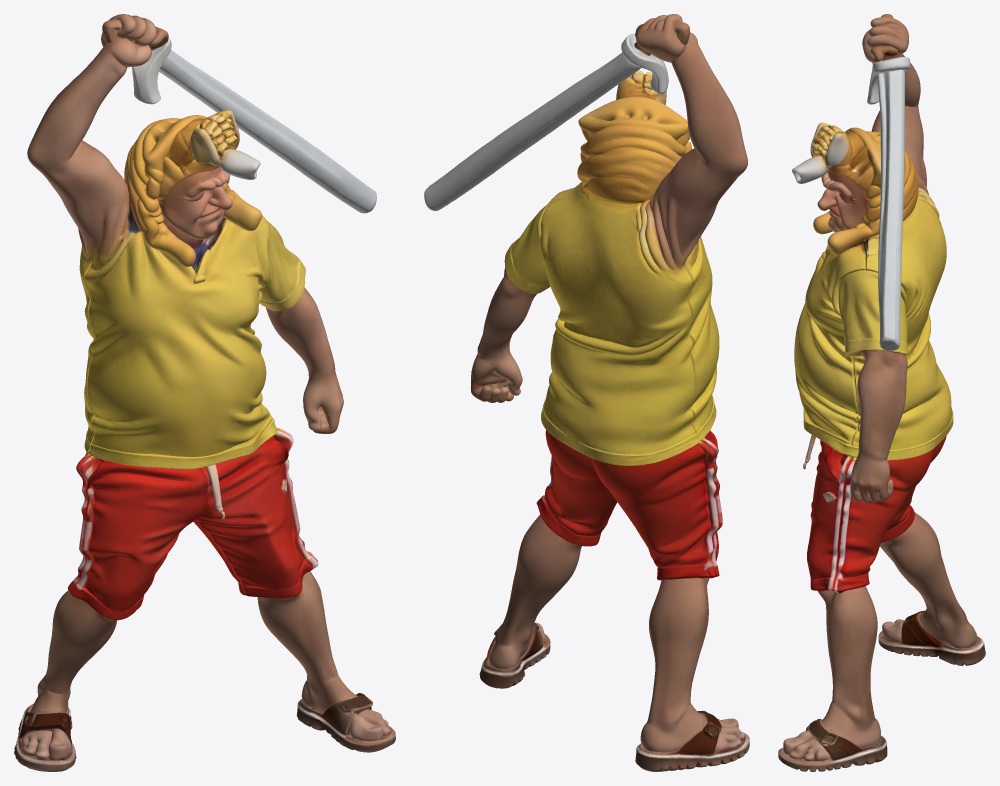
The model's file is efi_color.glb.
3 renders of one model, left to right at view 1: azimuth 30°, elevation 25°; view 2: azimuth 150°, elevation 25°; view 3: azimuth 270°, elevation 25°, orthographic. The views are drawn at different scales.
Bounding box in the file's own units: 0.9155 × 1.9 × 0.5411.
1 material, 1 textured.
